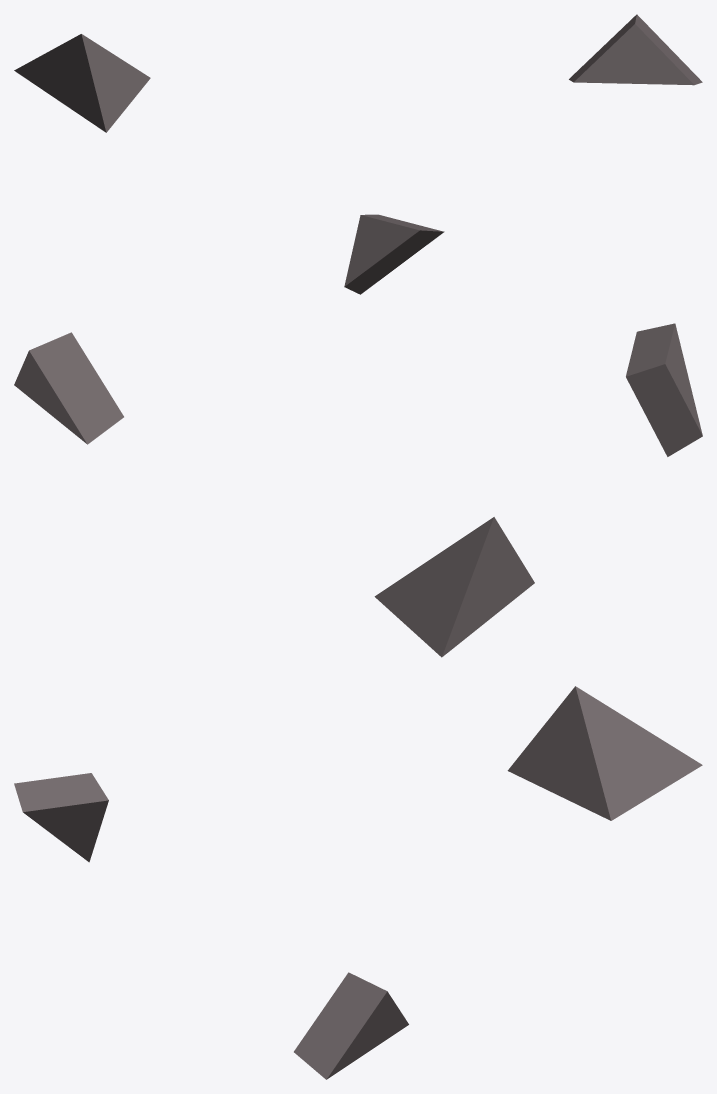
Rendered from Rocks_Sharp_s_05.fbx.
The picture shows the model from 3 angles, top to bottom: view 1: azimuth 30°, elevation 25°; view 2: azimuth 150°, elevation 25°; view 3: azimuth 270°, elevation 25°; orthographic projection. The views are drawn at different scales.
Visible parts, largest first — view 1: Rocks_Sharp_s_05; view 2: Rocks_Sharp_s_05; view 3: Rocks_Sharp_s_05.
Part boxes in pixels (x1,y1,x2,y2): Rocks_Sharp_s_05: [14, 14, 702, 294]; Rocks_Sharp_s_05: [14, 323, 702, 657]; Rocks_Sharp_s_05: [14, 686, 702, 1079].
Bounding box in the file's own units: 83.79 × 18.6 × 83.35.
